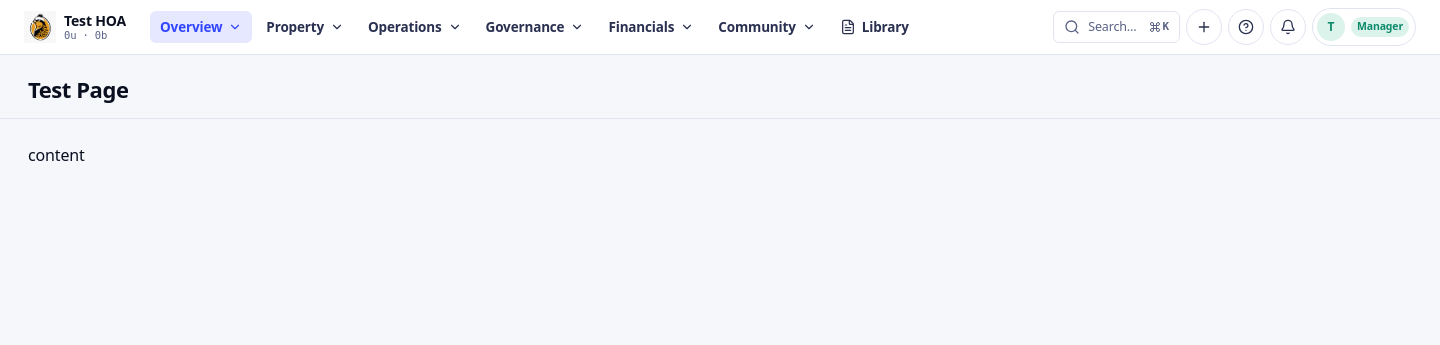
Test case: Layout dropdown open/close behavior › opens only one dropdown at a time
What coordinates should you click on to do the following:
click the button with test id "nav-section-property"
I would click on:
 (305, 27)
Its box is [256,11,354,43].
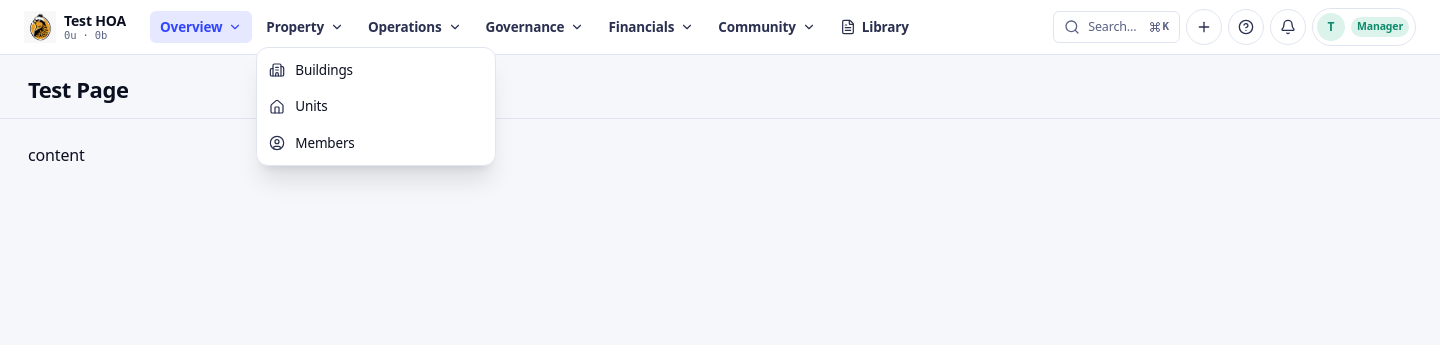
Expected: the menu with test id "nav-section-panel-property" is shown, [256,47,496,166]
What coordinates should you click on to do the following:
click the button with test id "nav-section-operations"
I would click on:
 (415, 27)
Its box is [358,11,472,43].
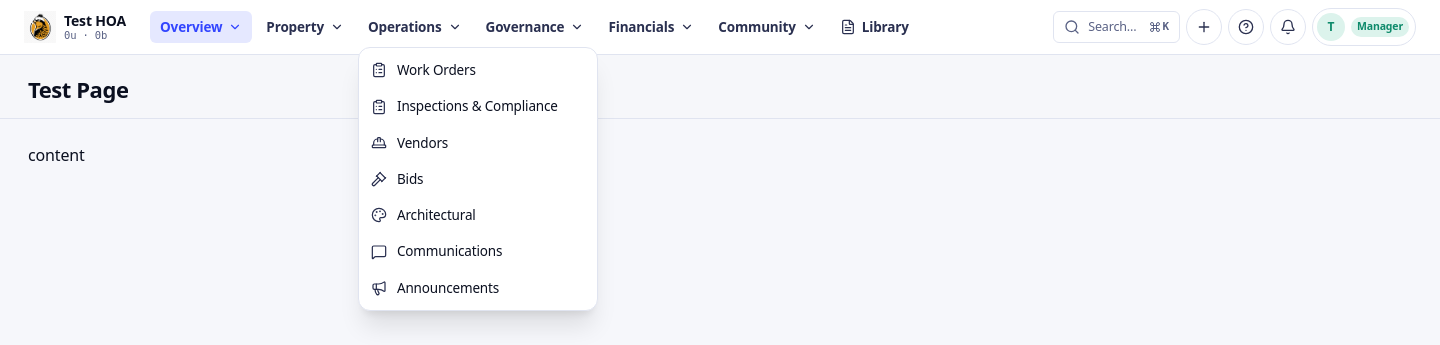
Expected: the menu with test id "nav-section-panel-property" is gone
Expected: the menu with test id "nav-section-panel-operations" is shown, [358,47,598,311]
